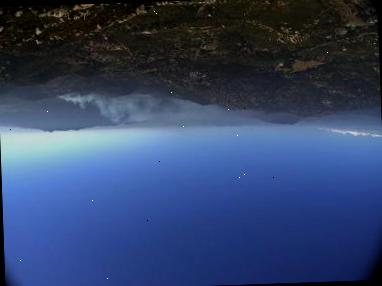smoke: (59, 89, 199, 131)
